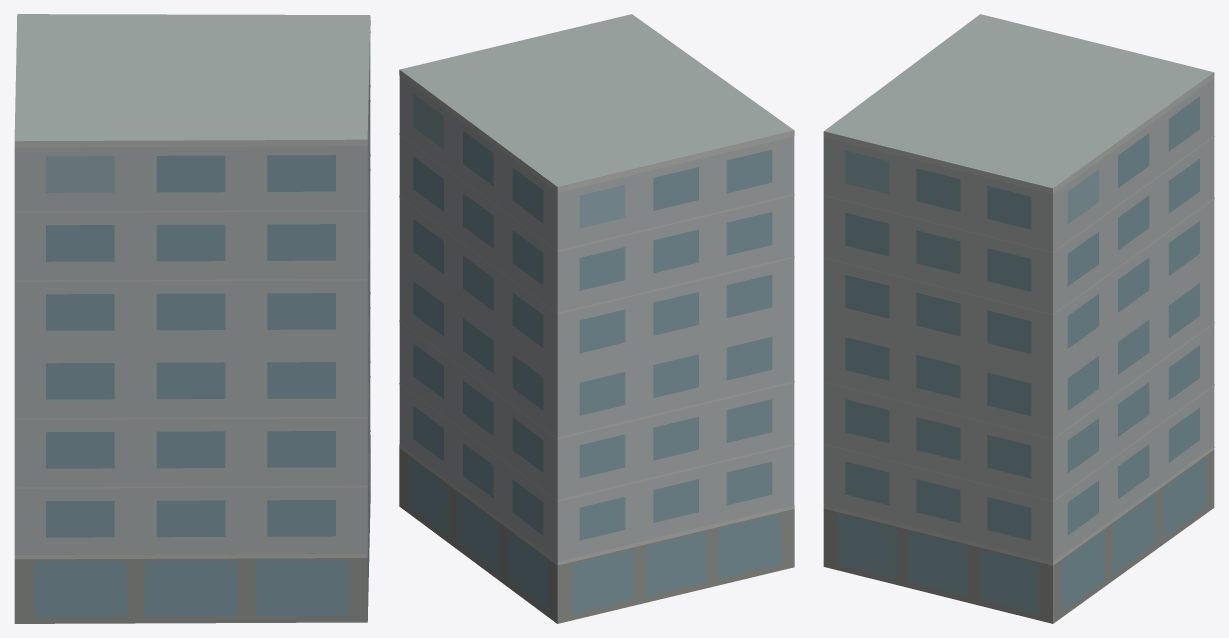
The model's file is survey-upis-32664064.glb.
3 views of the same model, side by side, from view 1: azimuth 30°, elevation 25°; view 2: azimuth 150°, elevation 25°; view 3: azimuth 270°, elevation 25° (orthographic). The views are drawn at different scales.
Visible parts, largest first — view 1: survey-upis-32664064.tmp; view 2: survey-upis-32664064.tmp; view 3: survey-upis-32664064.tmp.
Part boxes in pixels (x1,y1,x2,y2): survey-upis-32664064.tmp: (14,14,370,623); survey-upis-32664064.tmp: (399,14,794,623); survey-upis-32664064.tmp: (823,14,1214,623).
Bounding box in the file's own units: 15.31 × 17.8 × 14.49.
